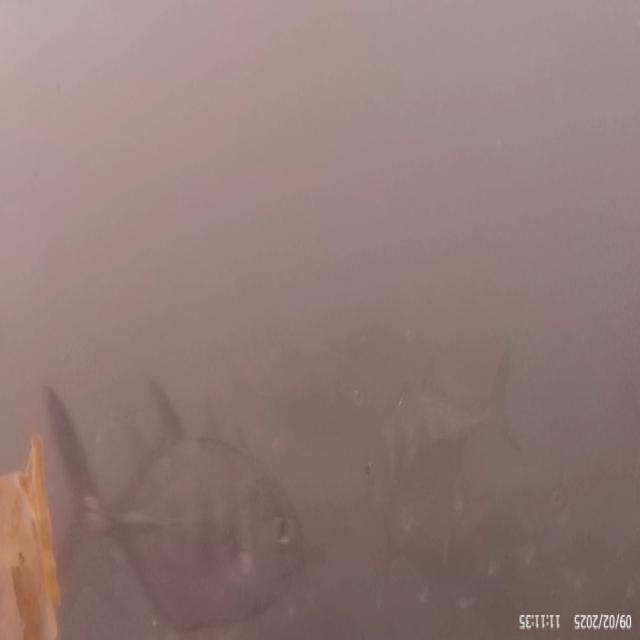ikan: (41, 374, 307, 635), (379, 344, 553, 592)
